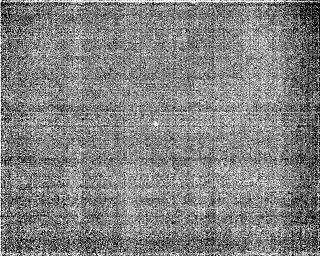AIRPLANE: (151, 119, 160, 130)
